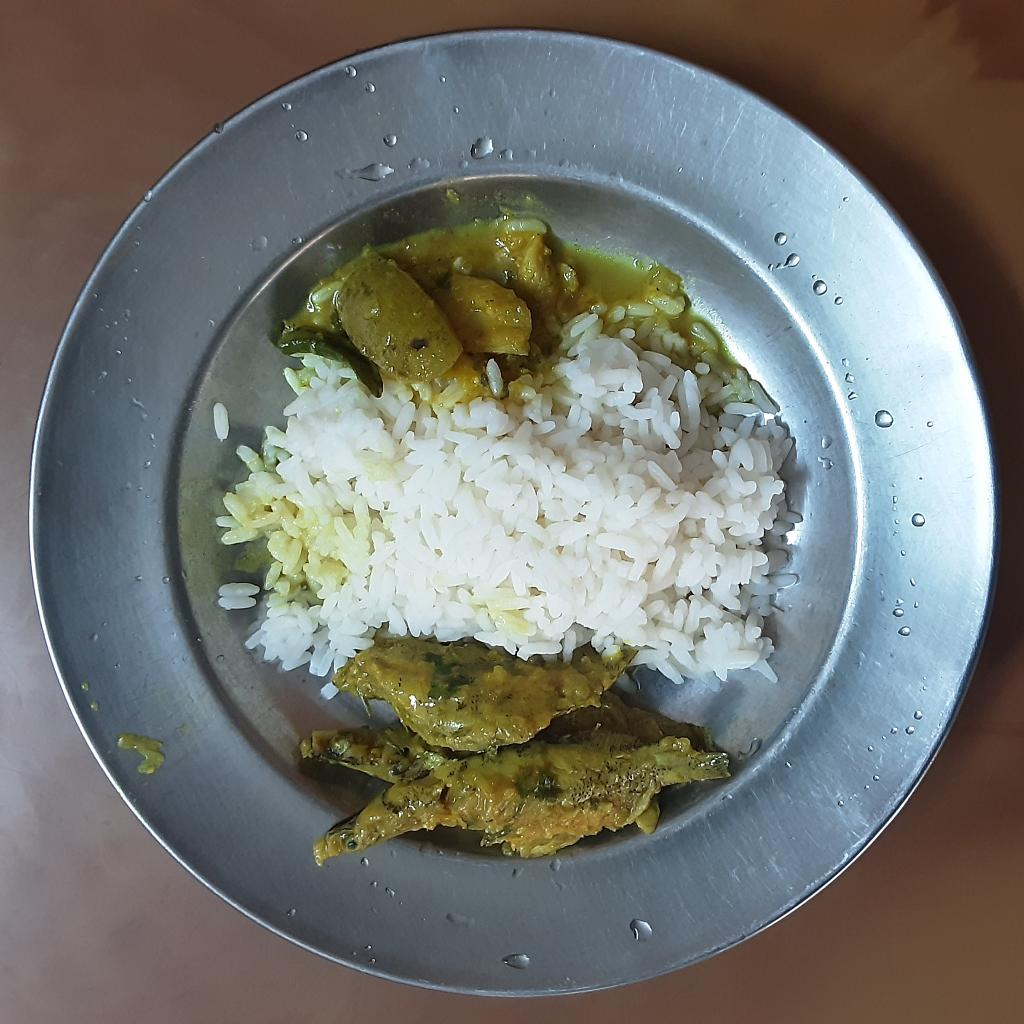dundol: (633, 278, 806, 683)
fish: (161, 304, 387, 732)
rice: (320, 207, 722, 803)
